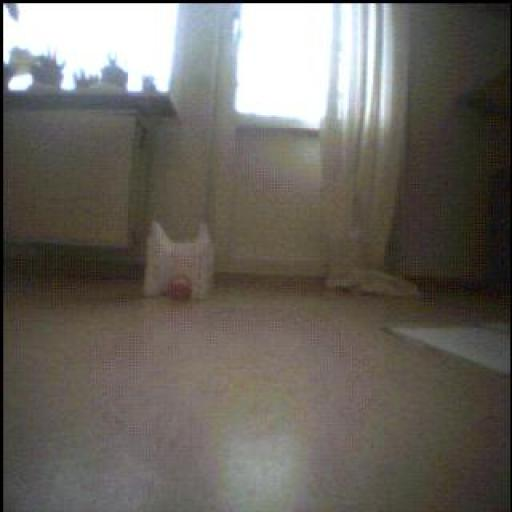Basket: (169, 278, 193, 302)
